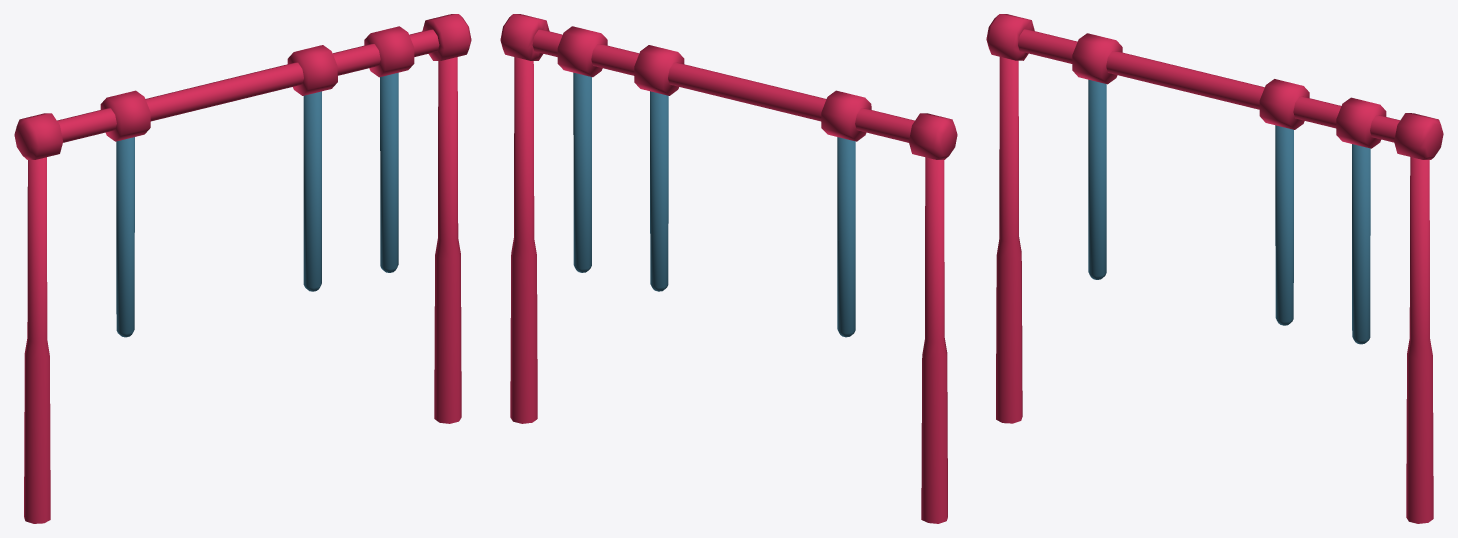
The model's file is Swinging_Sticks.fbx.
The picture shows the model from 3 angles, left to right: view 1: azimuth 30°, elevation 25°; view 2: azimuth 150°, elevation 25°; view 3: azimuth 330°, elevation 25°; orthographic projection.
Visible parts, largest first — view 1: swinging sticks, Cylinder.002, Cylinder.003, Cylinder.001; view 2: swinging sticks, Cylinder.003, Cylinder.002, Cylinder.001; view 3: swinging sticks, Cylinder.002, Cylinder.001, Cylinder.003.
Part boxes in pixels (x1,y1,x2,y2): swinging sticks: (14, 14, 471, 523); Cylinder.002: (364, 26, 414, 272); Cylinder.003: (100, 90, 150, 337); Cylinder.001: (287, 45, 337, 291); swinging sticks: (500, 14, 957, 523); Cylinder.003: (821, 90, 871, 337); Cylinder.002: (557, 26, 607, 272); Cylinder.001: (634, 45, 684, 291); swinging sticks: (986, 14, 1443, 523); Cylinder.002: (1336, 97, 1386, 344); Cylinder.001: (1259, 79, 1309, 325); Cylinder.003: (1072, 33, 1122, 279).
Bounding box in the file's own units: 296 × 258 × 26.26.
